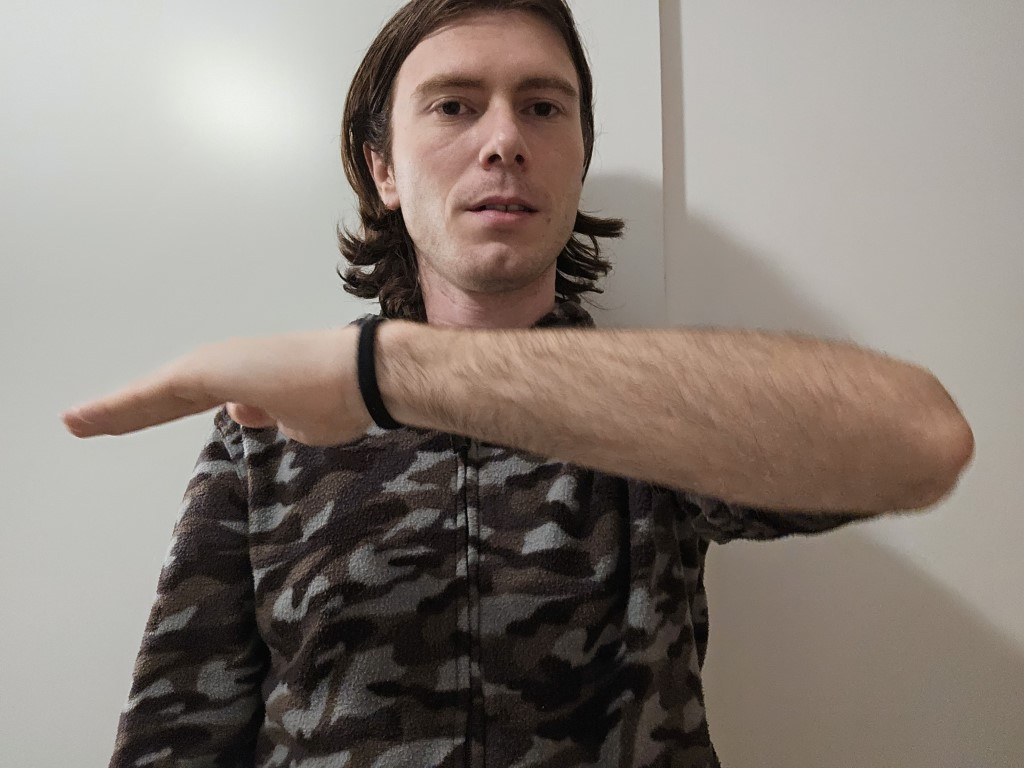space: (30, 306, 1009, 540)
